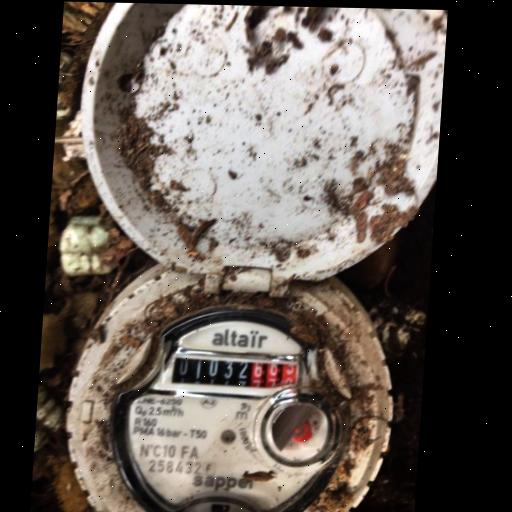0: (205, 360, 222, 384), (175, 357, 191, 382)
1: (190, 359, 205, 385)
2: (236, 361, 251, 387)
3: (219, 361, 236, 386)
4: (282, 364, 297, 386)
6: (250, 362, 265, 388), (265, 363, 278, 388)
border_water_meter_number: (148, 350, 313, 397)
